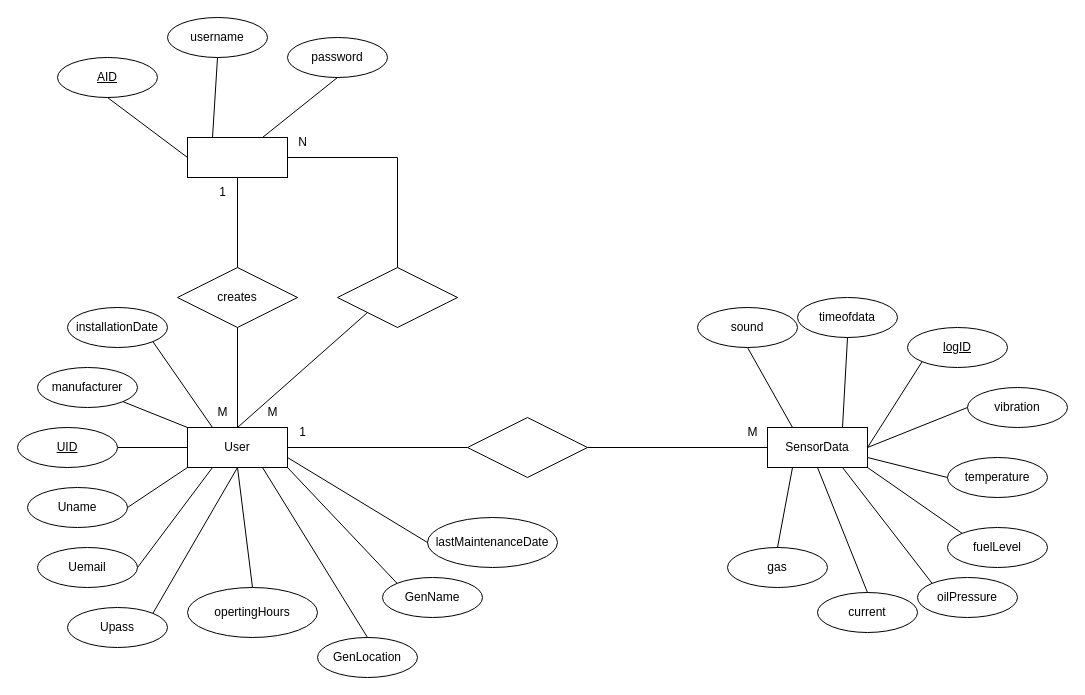
Some shapes in this 1085 by 695 pixel diagram are drawn without their labels. The centre of each missing label's shape, as x and y in pixels:
"Admin" goes at pixel 237 157.
"createdUsers" goes at pixel 397 297.
"sends" goes at pixel 527 447.
